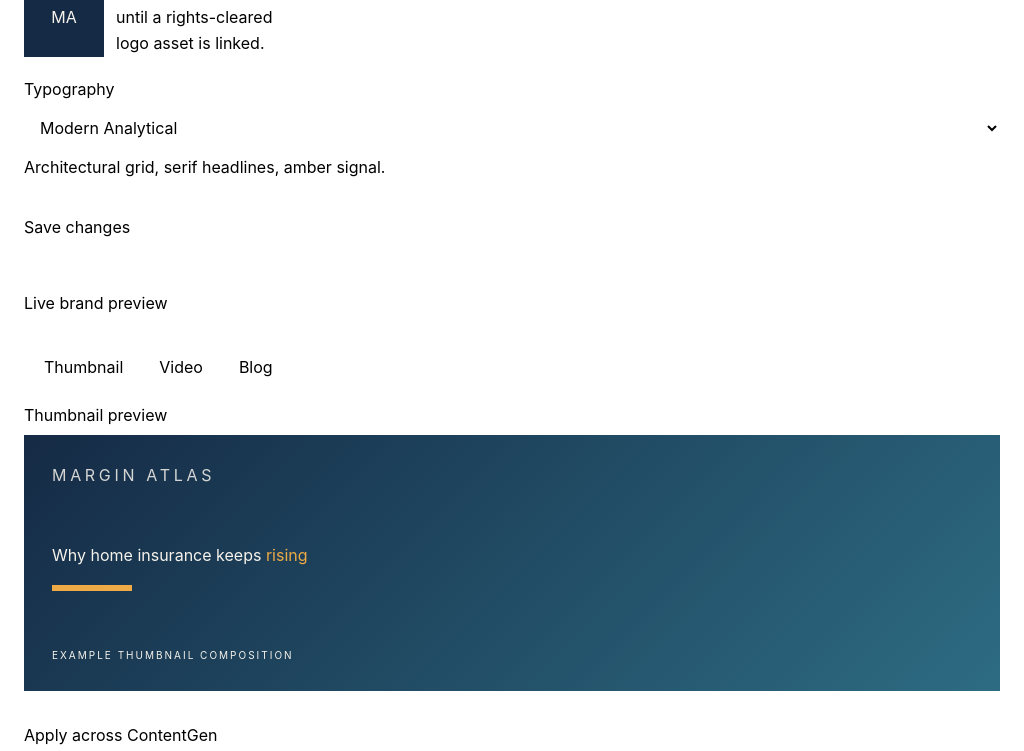
Test: Project Brand & Appearance › edits each main color in a single control and previews thumbnail, motion and blog
The width and height of the screenshot is (1024, 751).
(page scrolled)
Expected: the text "Thumbnail preview" is shown, 24,405 -> 167,425
Click the button "Video" at (181, 367), box 143,351 -> 219,383
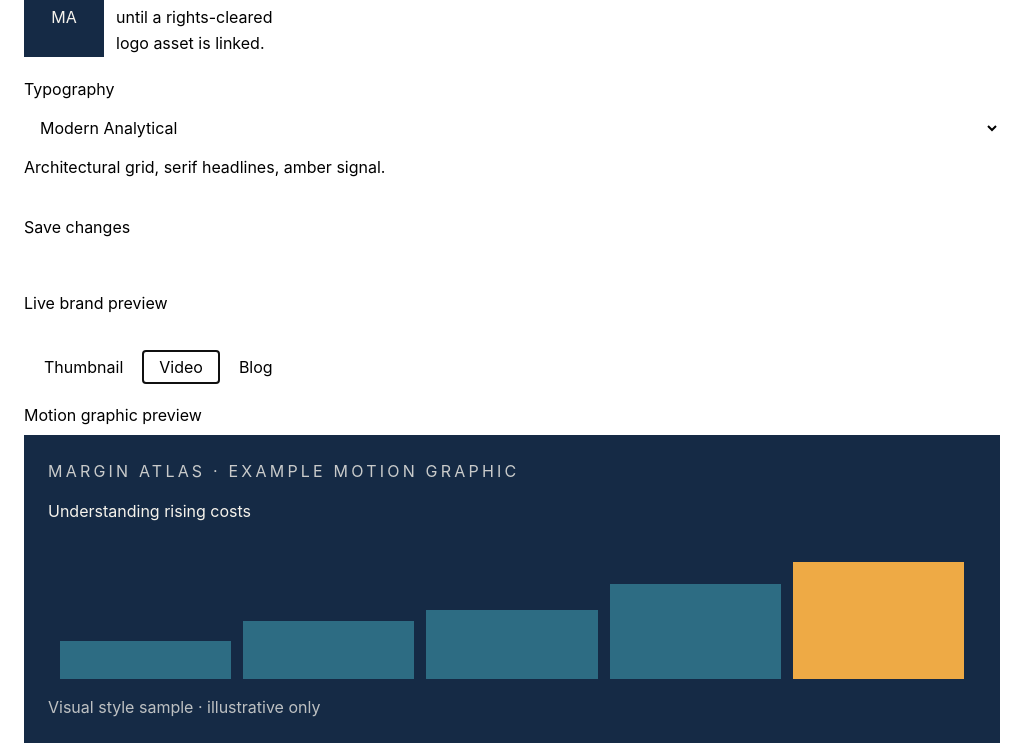
Now the text "Motion graphic preview" is shown, box 24,405 -> 202,425
Click the button "Blog" at (256, 367), box 223,351 -> 289,383
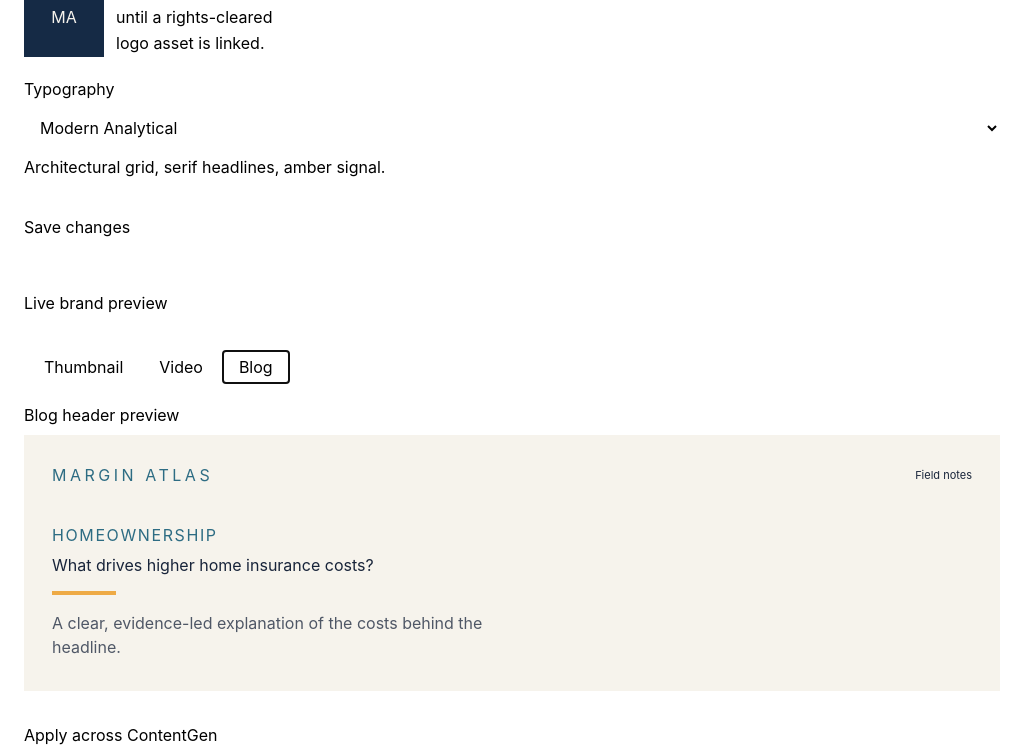
Now the text "Blog header preview" is shown, box 24,405 -> 179,425
